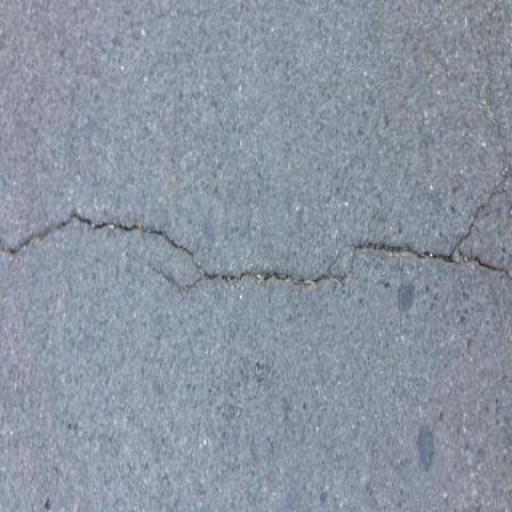spalling: (12, 161, 509, 314)
